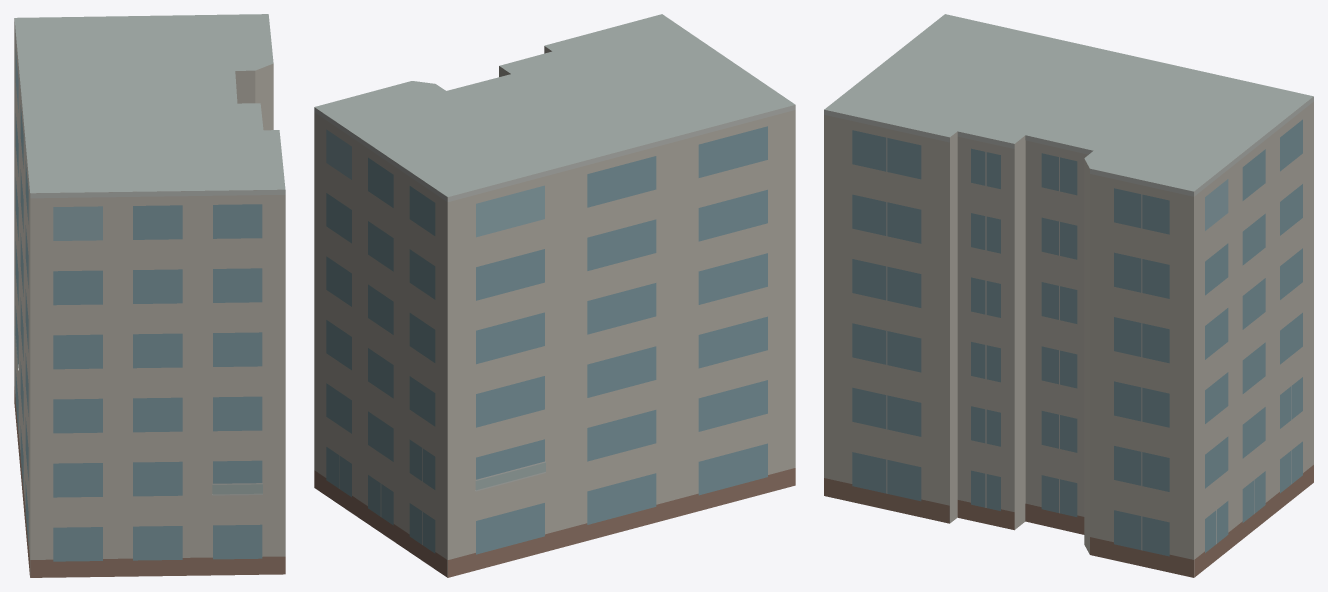
The model's file is survey-upis-32922088.glb.
3 renders of one model, left to right at view 1: azimuth 30°, elevation 25°; view 2: azimuth 150°, elevation 25°; view 3: azimuth 270°, elevation 25°, orthographic.
Visible parts, largest first — view 1: survey-upis-32922088.tmp; view 2: survey-upis-32922088.tmp; view 3: survey-upis-32922088.tmp.
Part boxes in pixels (x1=…): survey-upis-32922088.tmp: x1=14, y1=14, x2=285, y2=577; survey-upis-32922088.tmp: x1=314, y1=14, x2=795, y2=577; survey-upis-32922088.tmp: x1=824, y1=14, x2=1313, y2=577.
Bounding box in the file's own units: 18.06 × 18.3 × 21.04.
